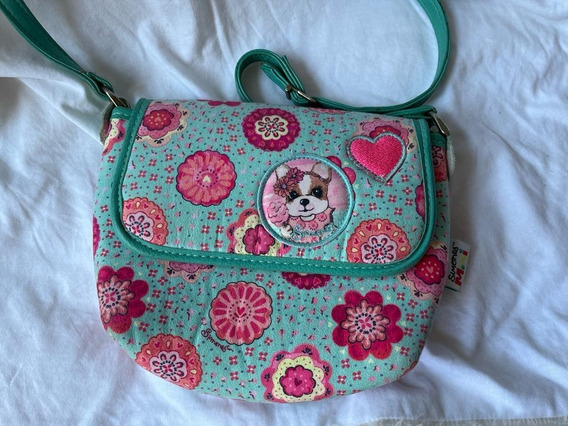cartera: (94, 92, 470, 402)
